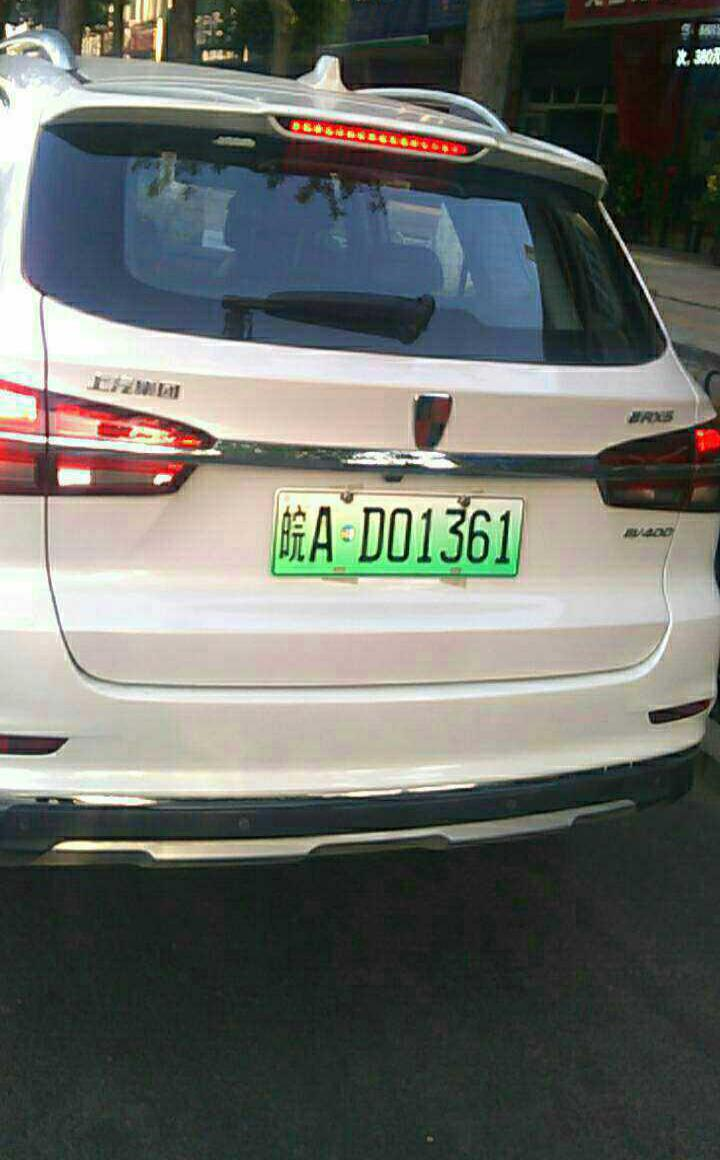car: (271, 484, 531, 583)
